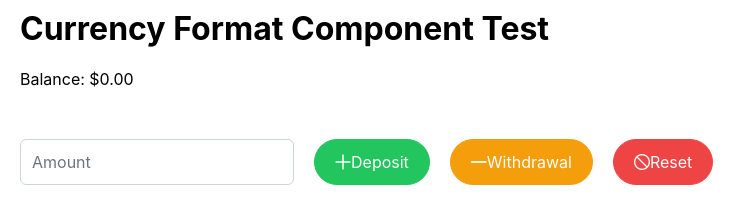
Test: Currency Format › should increment balance by amount when deposit button clicked
Type "50" into the field labelled "Amount" at (157, 162), box [20,139,294,185]
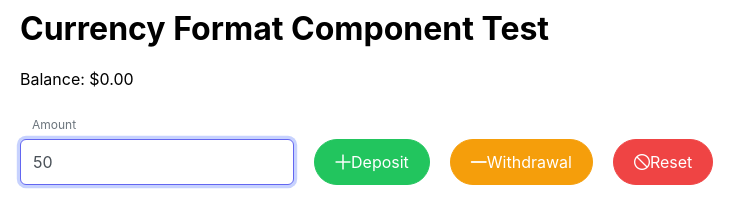
Click the button "Deposit" at (372, 162), box [314,139,430,185]
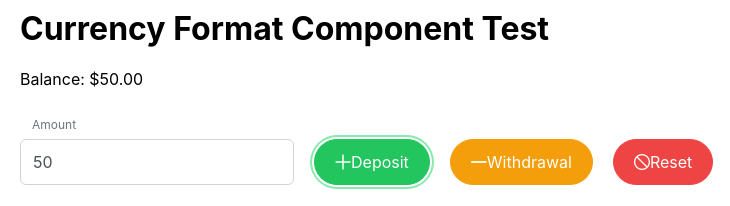
Result: the text with test id "balance-span-id" reads "$50.00" at [89,69,143,89]
